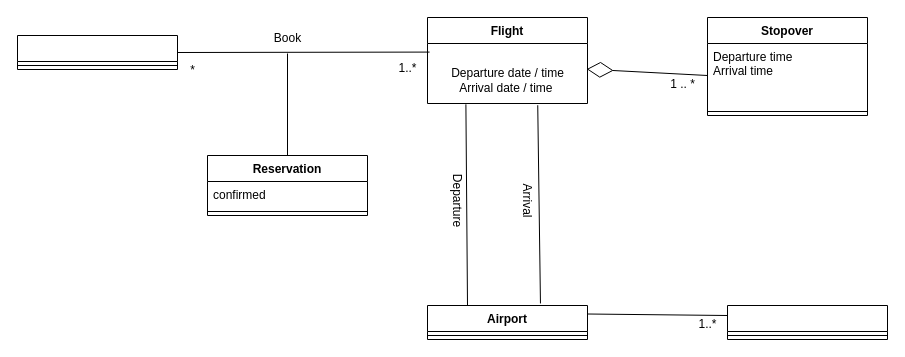
The diagram is 905 pixels wide and 357 high, and some of its shapes have lost their labels. Here are the shapes that lost their labels. From the top down, the centre of each, then its label:
At (x=97, y=52): "Client".
At (x=807, y=322): "City".
